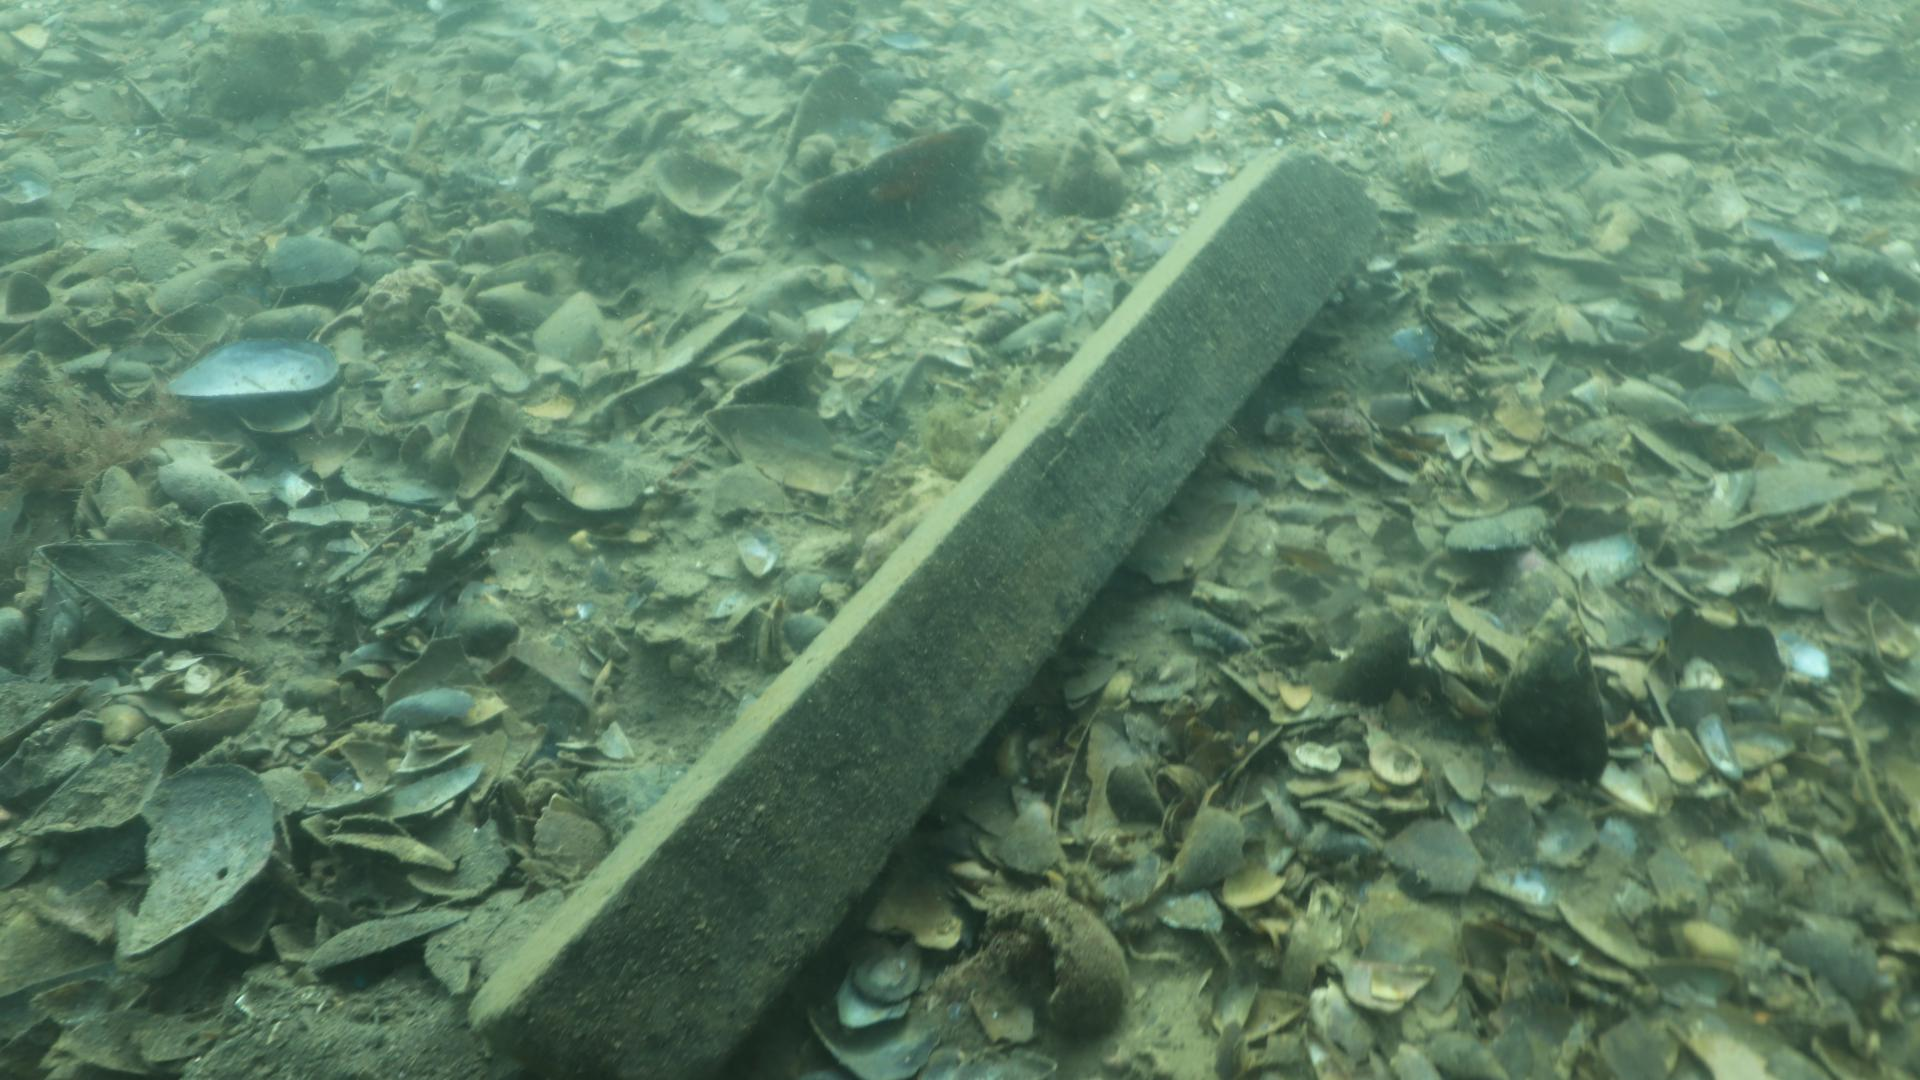wood: (463, 142, 1379, 1080)
